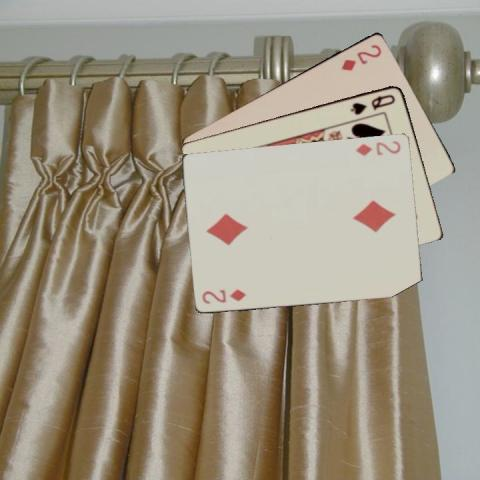2d: (339, 41, 383, 72), (352, 137, 403, 157), (200, 286, 248, 305)
Qs: (347, 91, 397, 116)
